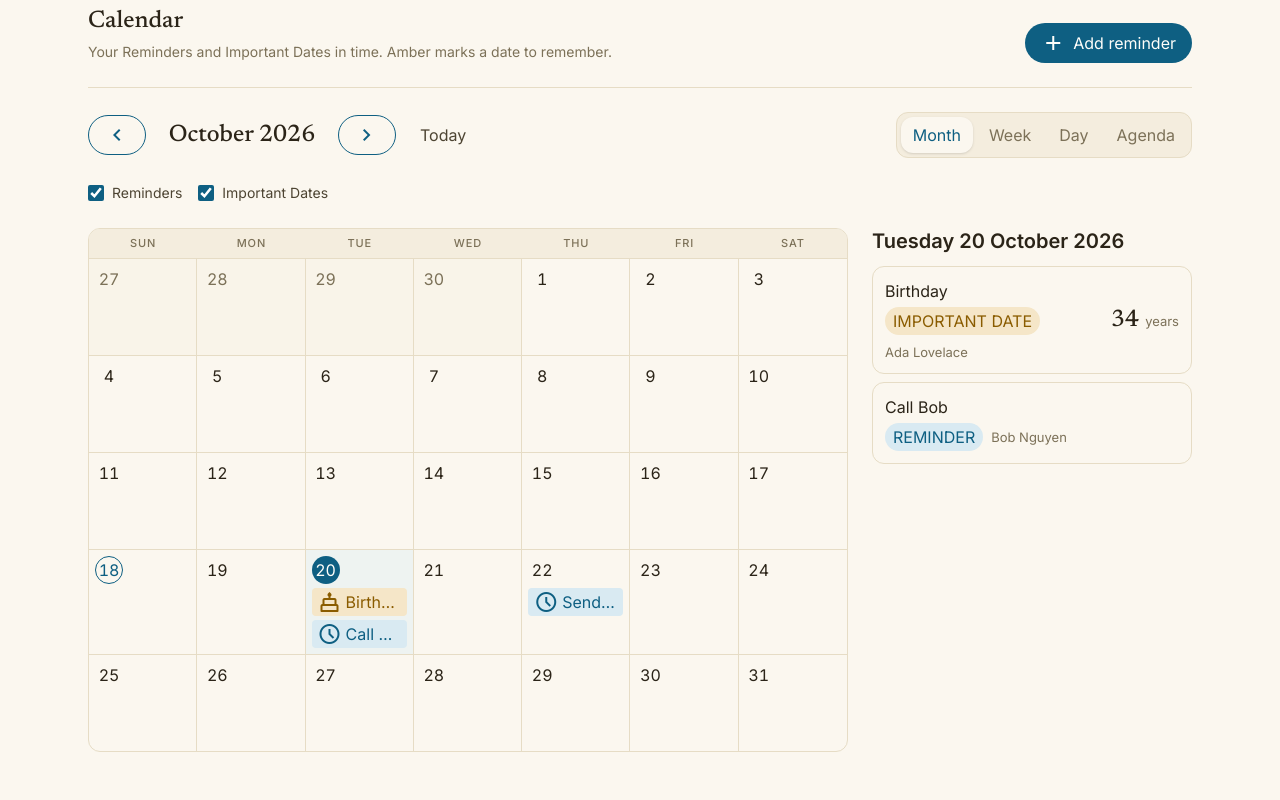
Test: Calendar item details › shows what a Reminder is about while the pointer rests on it
(page scrolled)
Expected: the 2nd text "Call Bob" is shown, top-left (346, 622), bottom-right (401, 646)
Hover over the button "Call Bob" at [359, 634], box top-left (312, 620), bottom-right (407, 648)
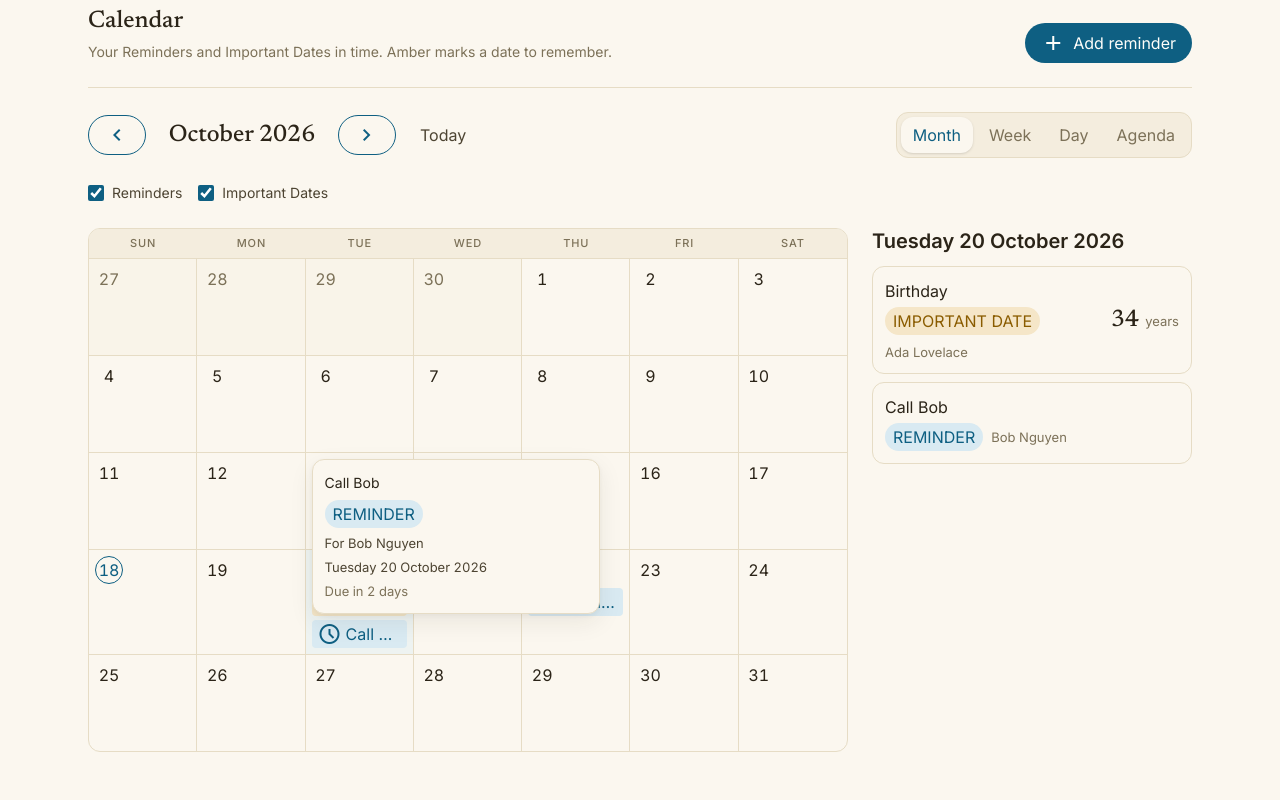
Expected: the 2nd text "Call Bob" is shown, top-left (325, 474), bottom-right (380, 491)
Expected: the 2nd text "Reminder" is shown, top-left (325, 500), bottom-right (423, 528)
Expected: the text "For Bob Nguyen" is shown, top-left (325, 535), bottom-right (424, 551)
Move the pointer off the button "Call Bob", box top-left (312, 620), bottom-right (407, 648)
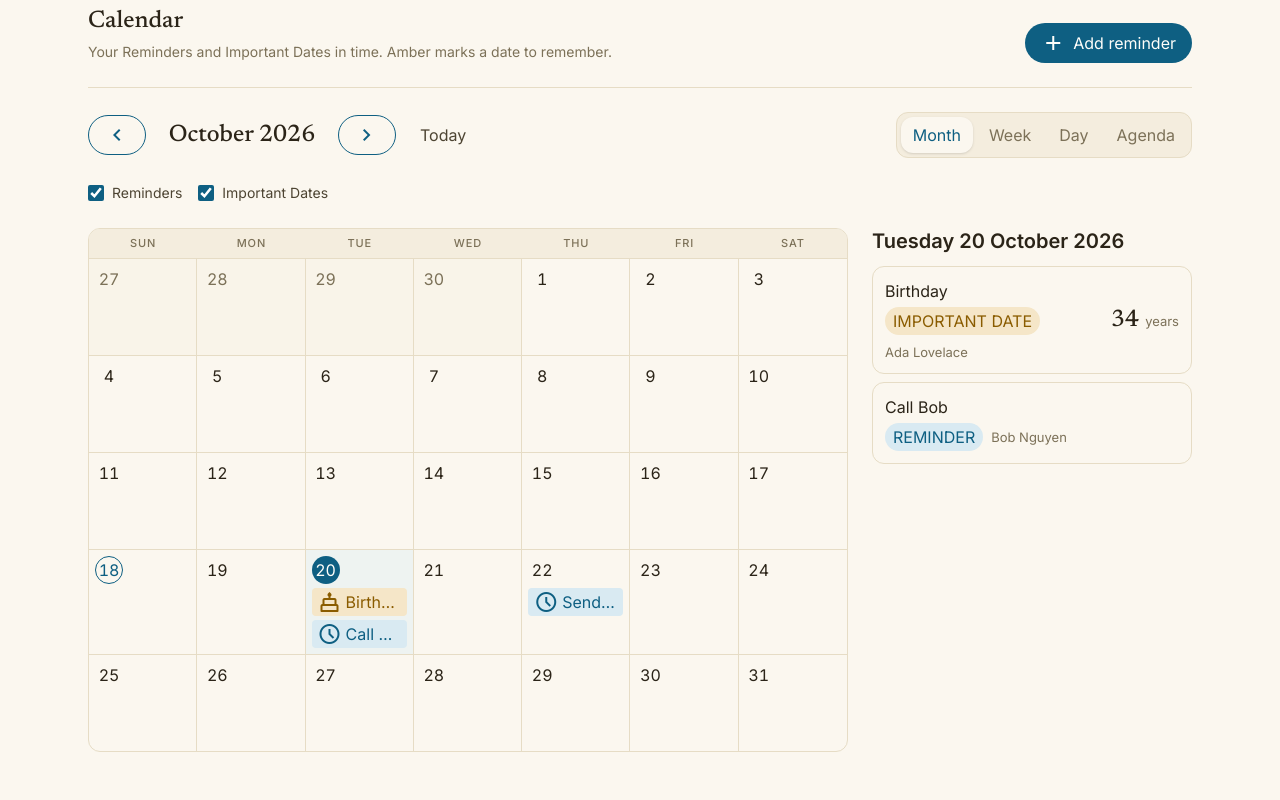
Expected: the tooltip "Call Bob Reminder For Bob Nguyen Tuesday 20 October 2026 Due in 2 days" is gone
